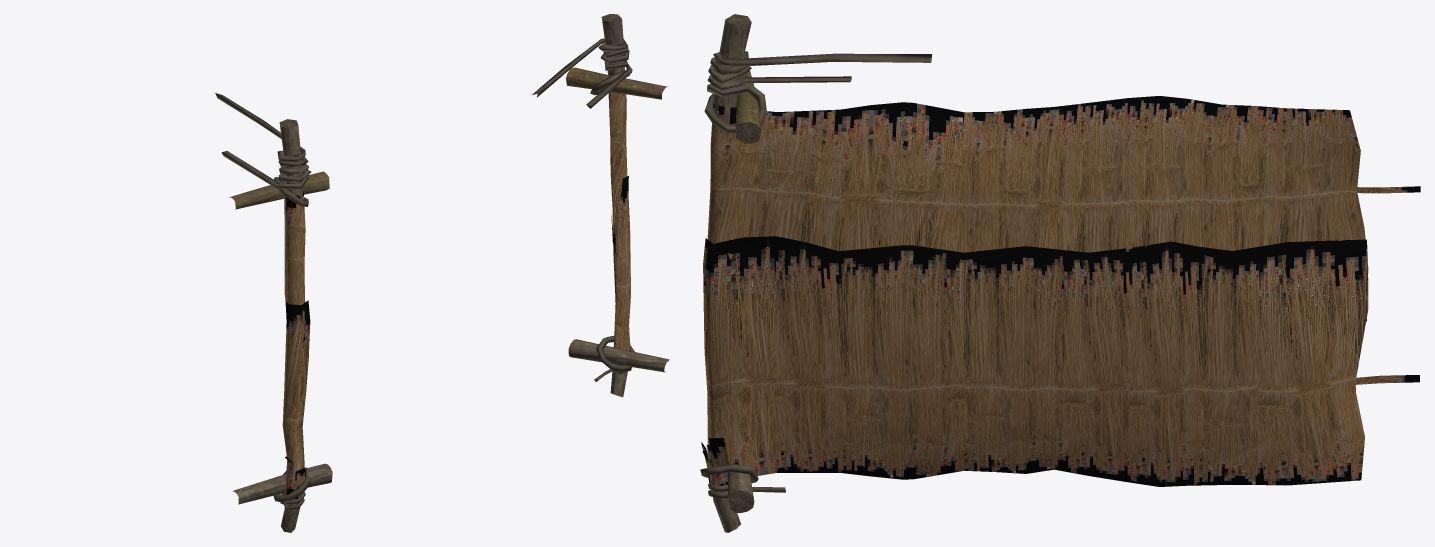
The model's file is VIK_PRO_Curtain_Wicker_WS_01A_LOD0-transformed.glb.
The picture shows the model from 3 angles, left to right: view 1: azimuth 30°, elevation 25°; view 2: azimuth 150°, elevation 25°; view 3: azimuth 270°, elevation 25°; orthographic projection. The views are drawn at different scales.
Visible parts, largest first — view 1: VIK_PRO_Curtain_Wicker_WS_01A_LOD0; view 2: VIK_PRO_Curtain_Wicker_WS_01A_LOD0; view 3: VIK_PRO_Curtain_Wicker_WS_01A_LOD0.
Part boxes in pixels (x1=…): VIK_PRO_Curtain_Wicker_WS_01A_LOD0: x1=215, y1=93, x2=332, y2=532; VIK_PRO_Curtain_Wicker_WS_01A_LOD0: x1=532, y1=14, x2=669, y2=397; VIK_PRO_Curtain_Wicker_WS_01A_LOD0: x1=700, y1=14, x2=1420, y2=532.
Bounding box in the file's own units: 0.00677 × 0.0269 × 0.0342.
3 materials, 3 textured.
